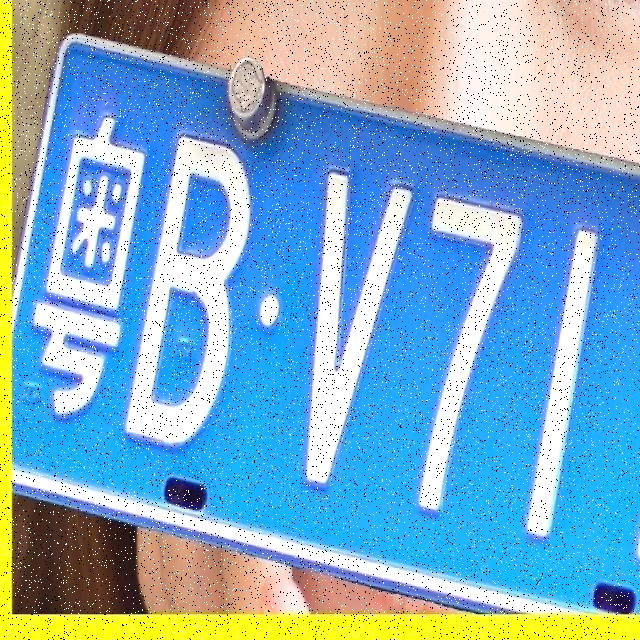licenseplate: (13, 32, 640, 614)
